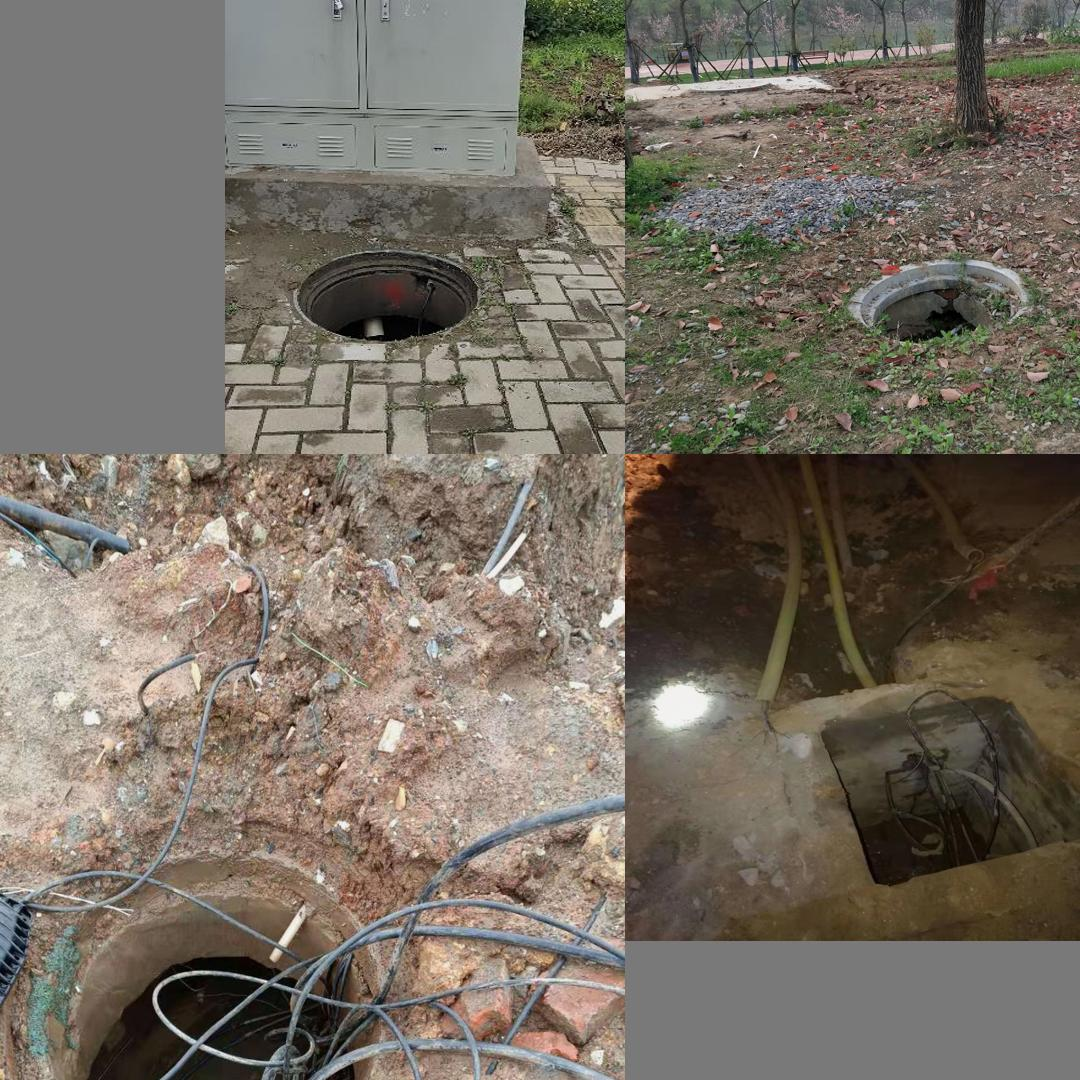lose: (10, 844, 404, 1080), (789, 673, 1080, 893), (292, 248, 480, 342), (849, 257, 1030, 346)
